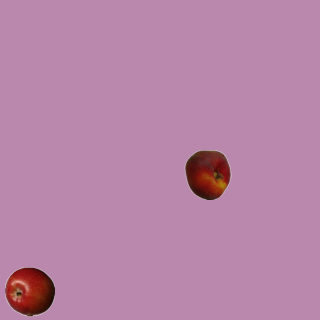Apple Braeburn: (4, 266, 54, 316)
Nectarine Flat: (182, 149, 232, 199)
